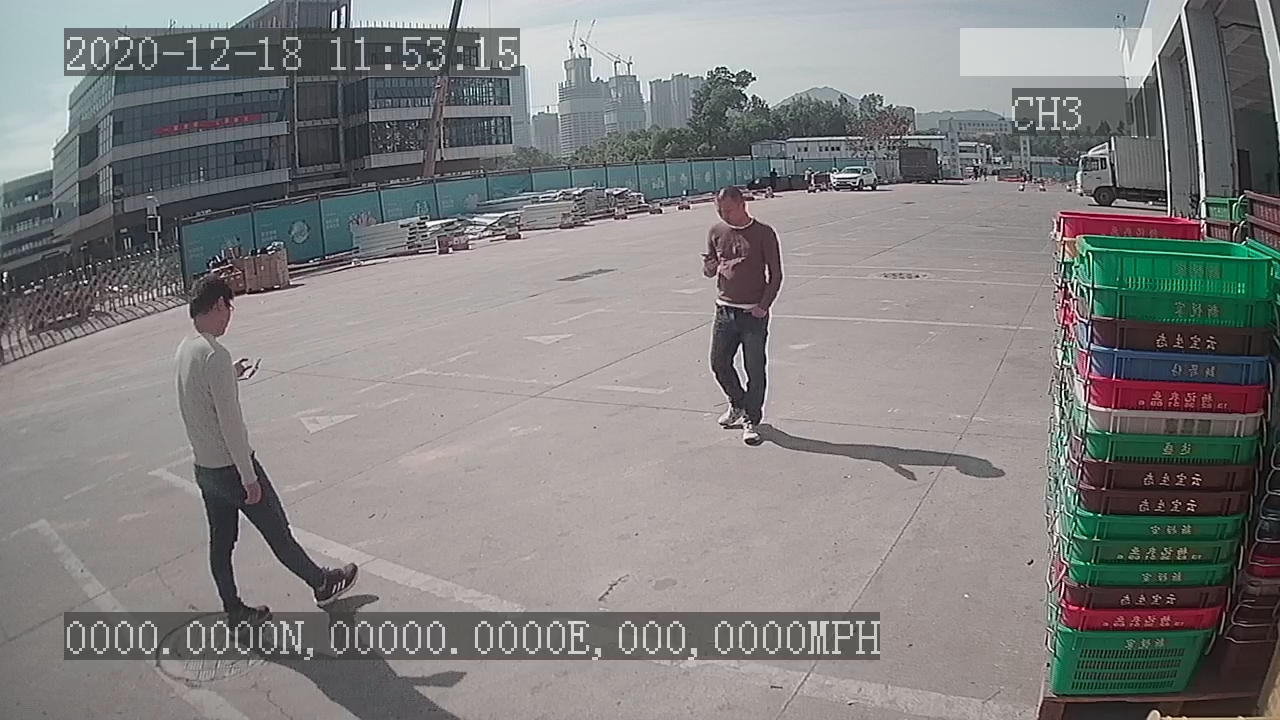person: (692, 177, 788, 449)
